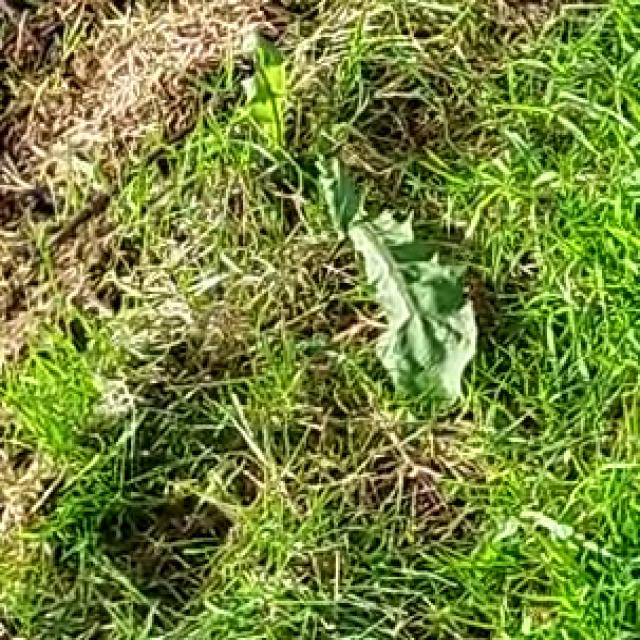organic waste: (264, 109, 575, 474)
